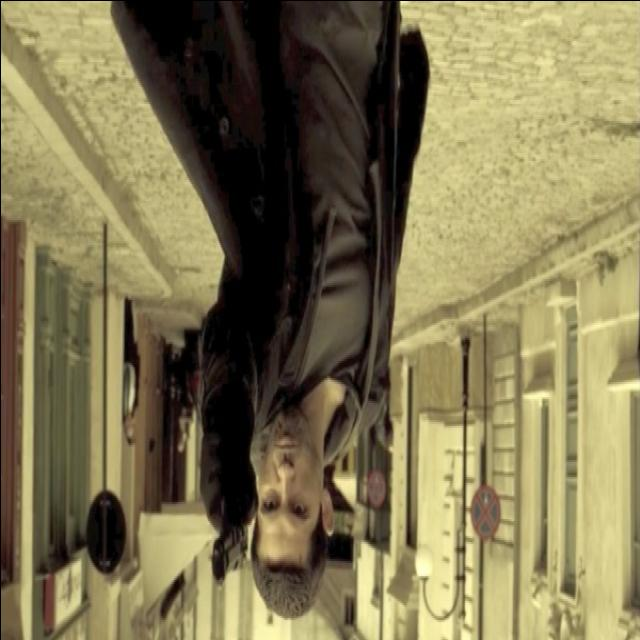weapons: (199, 408, 253, 600)
